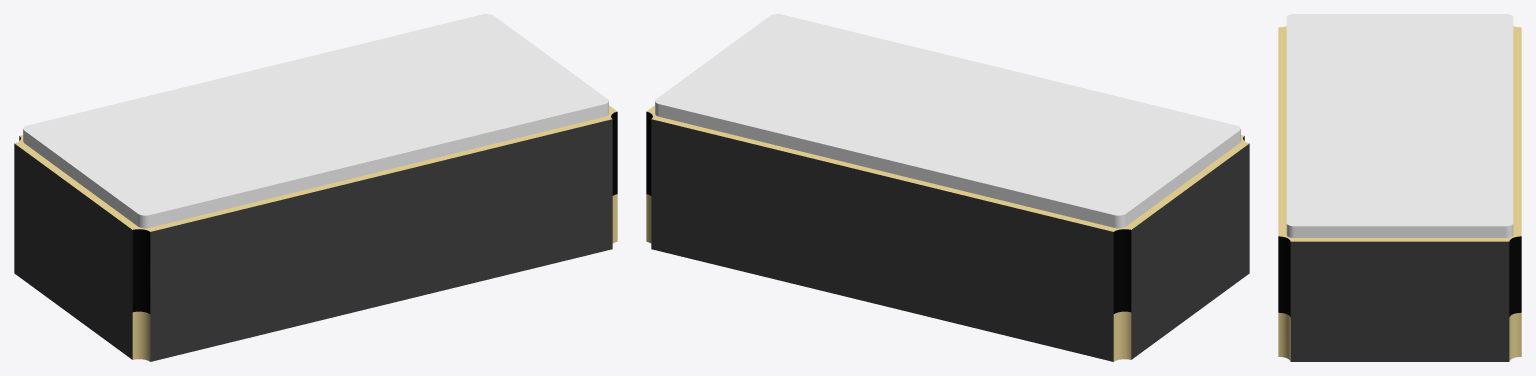
Rendered from Q32.768kHz_12.5pF_2P_SMD1206-15af6506982d.glb.
3 renders of one model, left to right at view 1: azimuth 30°, elevation 25°; view 2: azimuth 150°, elevation 25°; view 3: azimuth 270°, elevation 25°, orthographic. The views are drawn at different scales.
Visible parts, largest first — view 1: material0, material3, material2, material1; view 2: material0, material3, material2, material1; view 3: material3, material0, material2, material1.
Boxes of the visible parts, <box> form: material0: <box>14,119,612,361</box>; material3: <box>23,14,608,228</box>; material2: <box>15,105,617,361</box>; material1: <box>19,111,617,313</box>; material0: <box>651,119,1249,361</box>; material3: <box>655,14,1240,228</box>; material2: <box>646,105,1248,361</box>; material1: <box>646,111,1244,313</box>; material3: <box>1286,14,1513,237</box>; material0: <box>1290,241,1509,361</box>; material2: <box>1278,26,1521,361</box>; material1: <box>1278,236,1521,317</box>.
Size of the model in its own units: 3.2 by 0.9 by 1.5.
